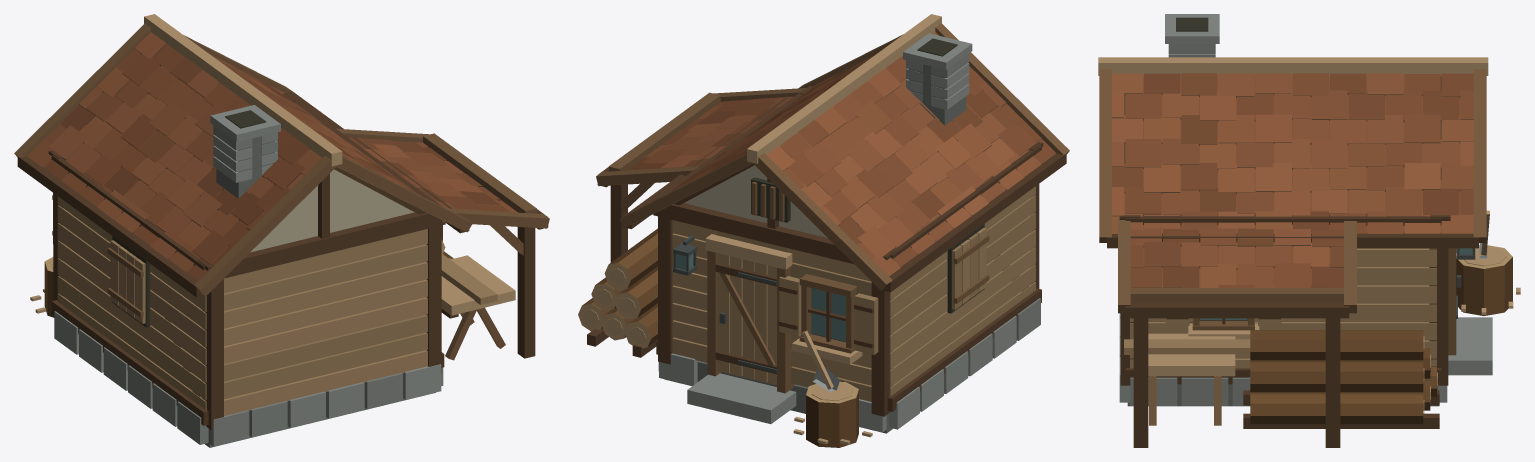
Rendered from LumberjackHut.glb.
The picture shows the model from 3 angles, left to right: view 1: azimuth 30°, elevation 25°; view 2: azimuth 150°, elevation 25°; view 3: azimuth 270°, elevation 25°; orthographic projection. The views are drawn at different scales.
Visible parts, largest first — view 1: LumberjackHut_Body; view 2: LumberjackHut_Body, LumberHutDoor, LumberHutGlass; view 3: LumberjackHut_Body.
Boxes of the visible parts, x1,y1,x2,y2 form: LumberjackHut_Body: (14, 14, 549, 447); LumberjackHut_Body: (578, 14, 1069, 447); LumberHutDoor: (715, 253, 777, 385); LumberHutGlass: (676, 253, 845, 341); LumberjackHut_Body: (1098, 14, 1520, 447).
Size of the model in its own units: 5.07 by 3.9 by 4.95.
